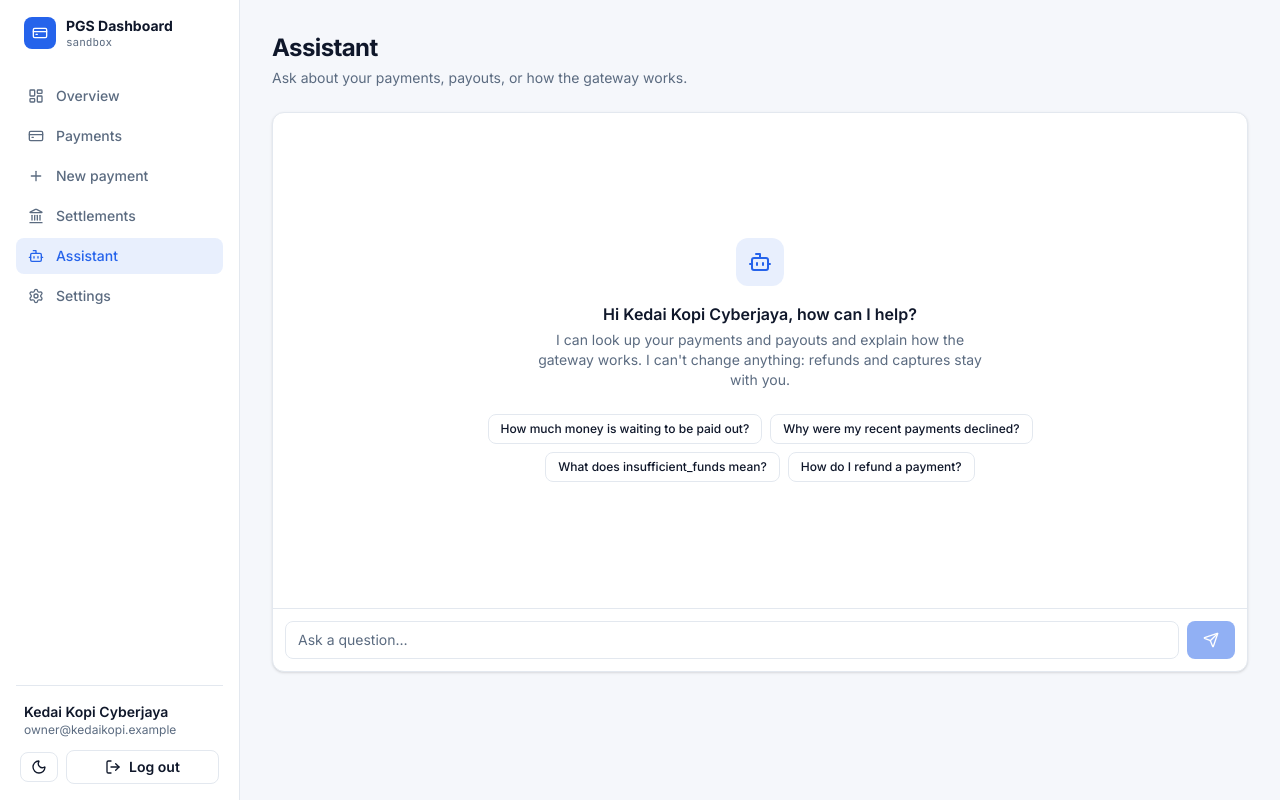
assistant › explains when the assistant service is unavailable
Type "hello" into the field named "message" at (732, 640), box x1=285 y1=621 x2=1179 y2=659
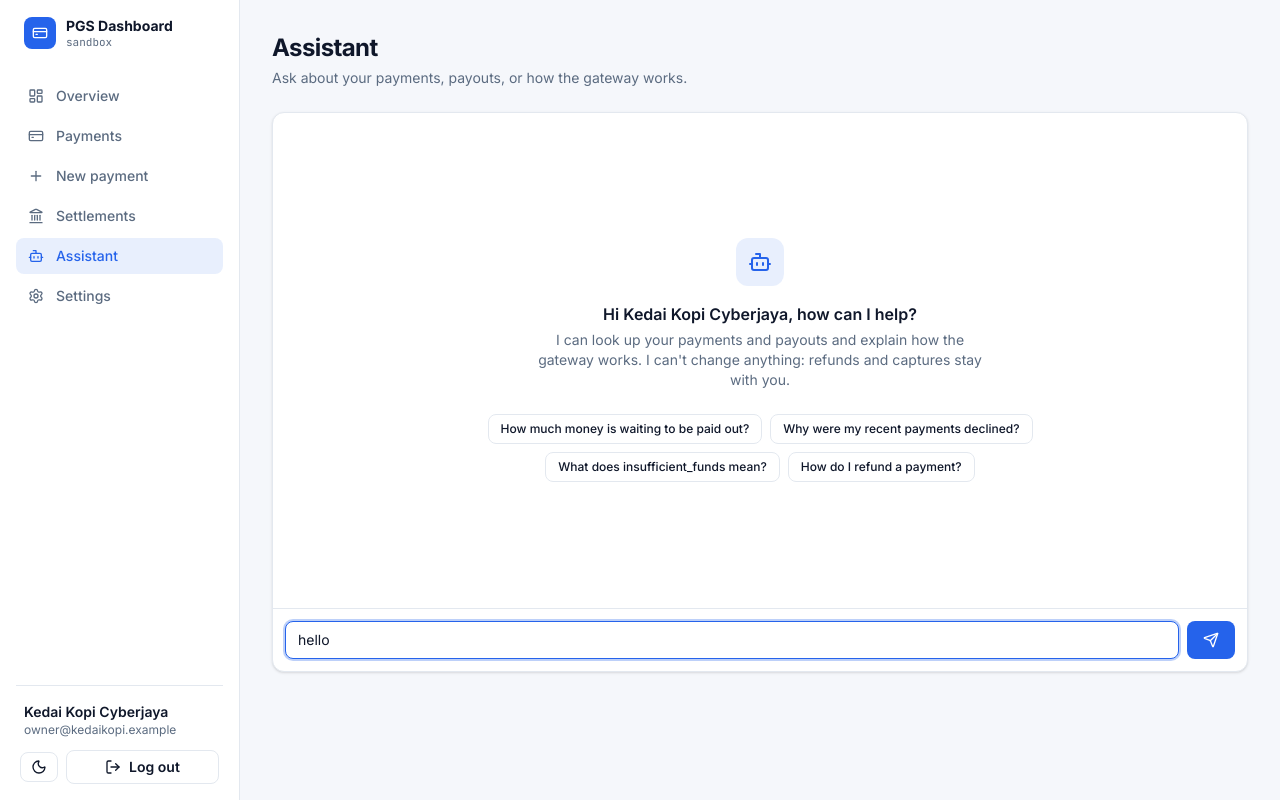
Click the button named "send" at (1211, 640), box x1=1187 y1=621 x2=1235 y2=659
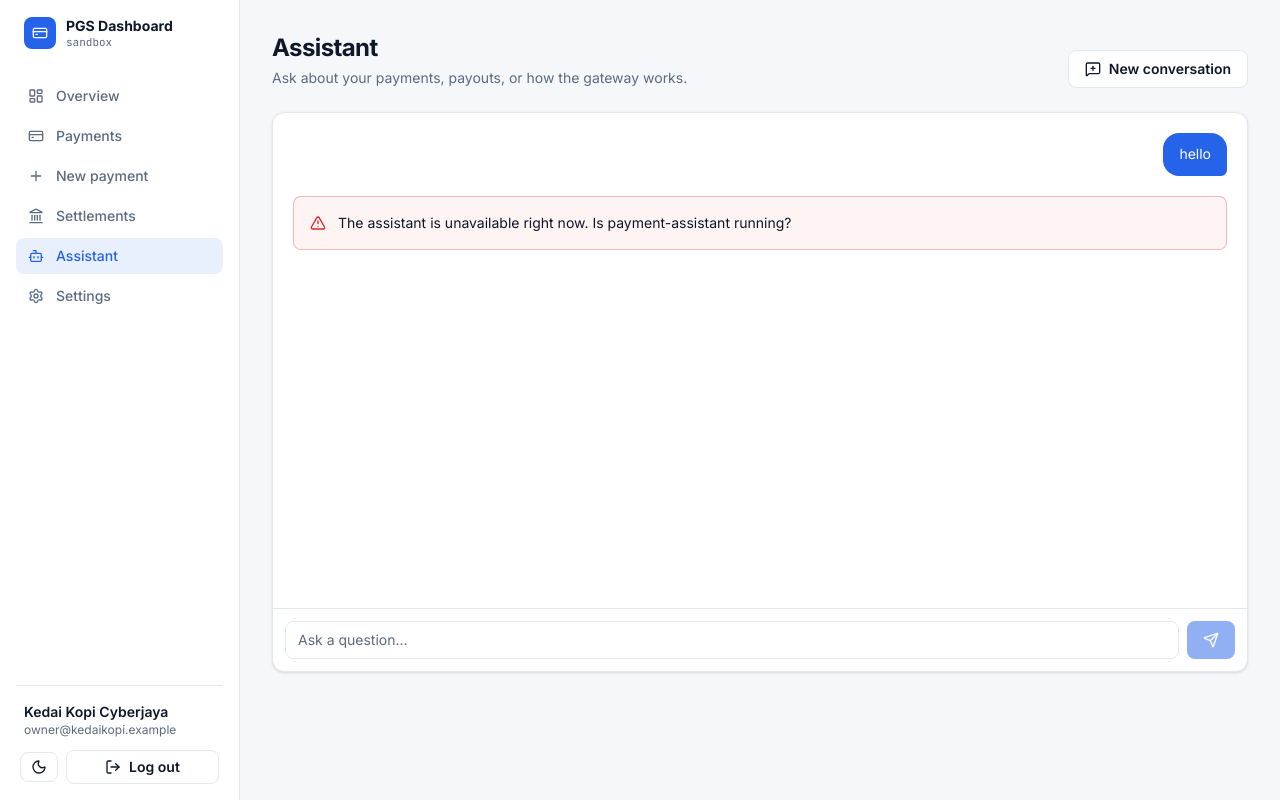
Now the message shows "assistant is unavailable", box x1=338 y1=214 x2=791 y2=231
